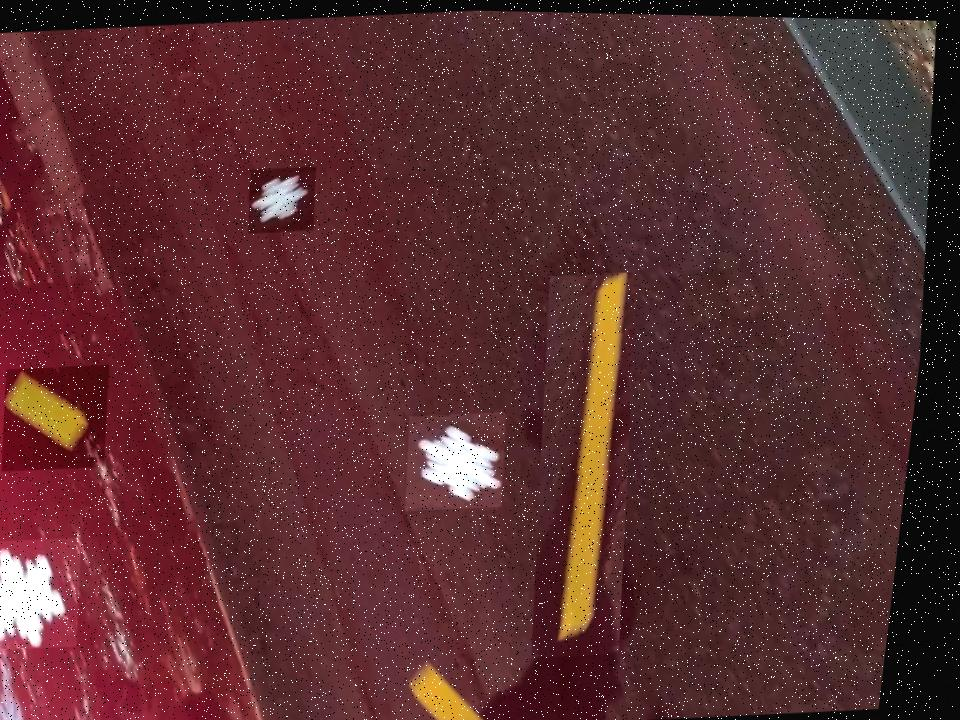dent: (0, 536, 103, 654), (411, 407, 522, 511), (249, 164, 324, 233)
scratch: (521, 268, 670, 657), (7, 362, 126, 473)
